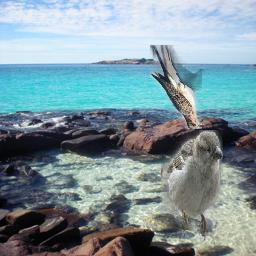Cuckoo: (150, 45, 202, 129)
Sparrow: (161, 130, 223, 240)
